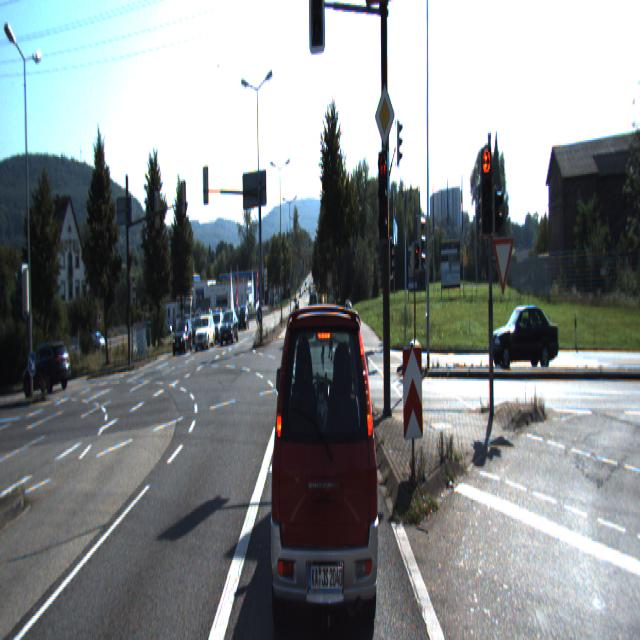Car: (267, 275, 381, 633), (488, 298, 560, 373), (21, 341, 73, 395), (172, 321, 193, 355), (195, 316, 215, 350), (218, 310, 238, 344)
